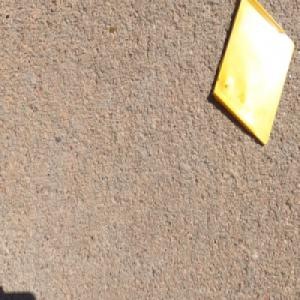PlasticPart: (211, 0, 295, 145)
